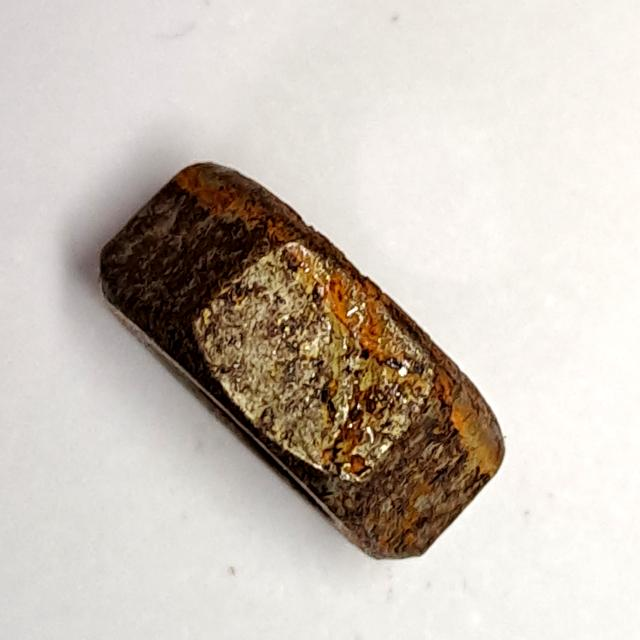Side_Rust: (85, 151, 524, 570)
